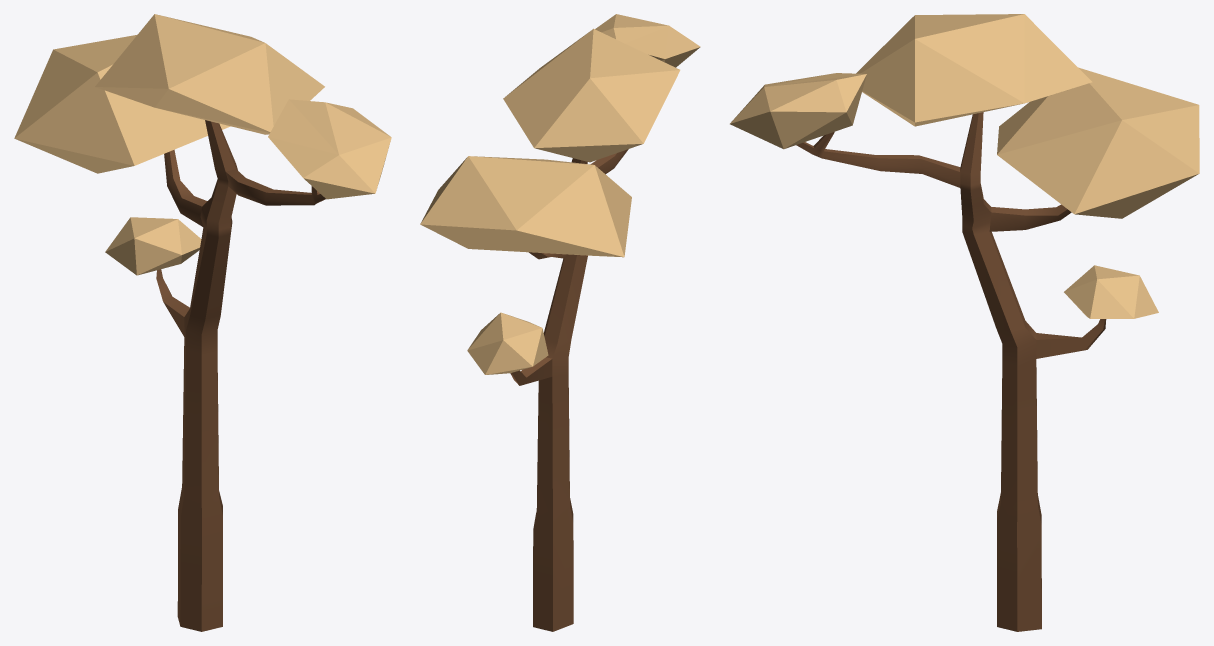
File: savanna_tree.obj
The picture shows the model from 3 angles, left to right: view 1: azimuth 30°, elevation 25°; view 2: azimuth 150°, elevation 25°; view 3: azimuth 270°, elevation 25°; orthographic projection. The views are drawn at different scales.
Size of the model in its own units: 3.96 by 10.06 by 7.27.
